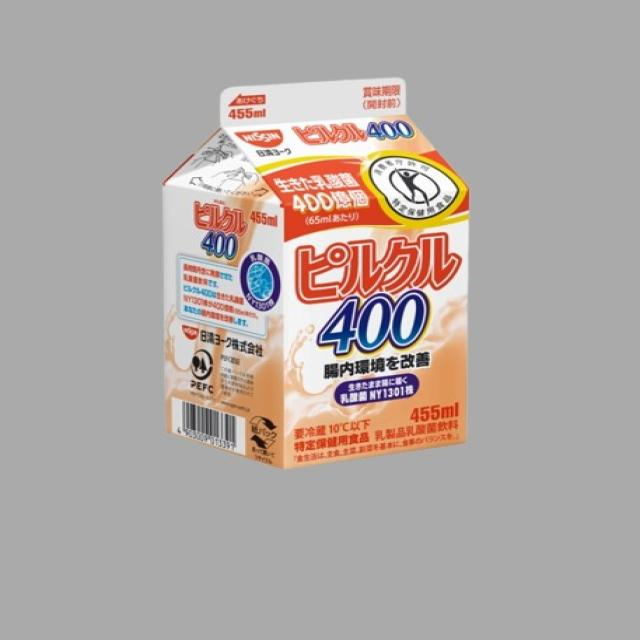Aluminium Foil: (158, 77, 468, 470)
